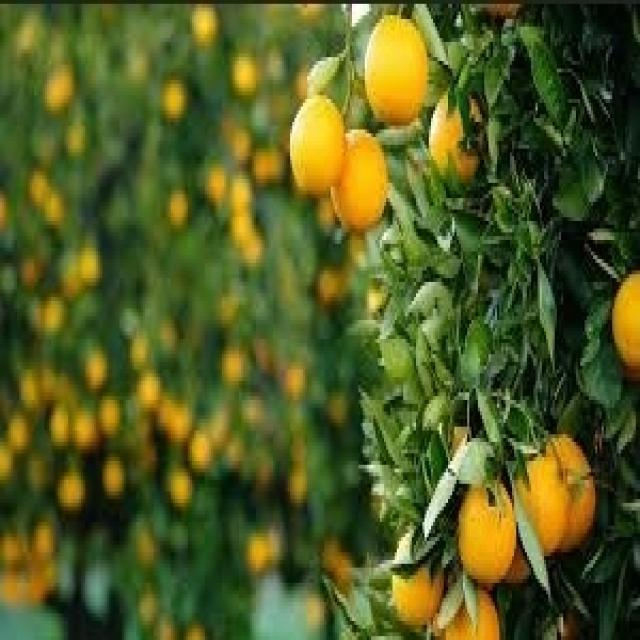Orange: (504, 411, 602, 564), (318, 114, 395, 236), (358, 8, 429, 130), (456, 454, 516, 590), (284, 76, 348, 202), (422, 68, 488, 190), (384, 514, 448, 621), (428, 572, 504, 636), (601, 255, 638, 385)
